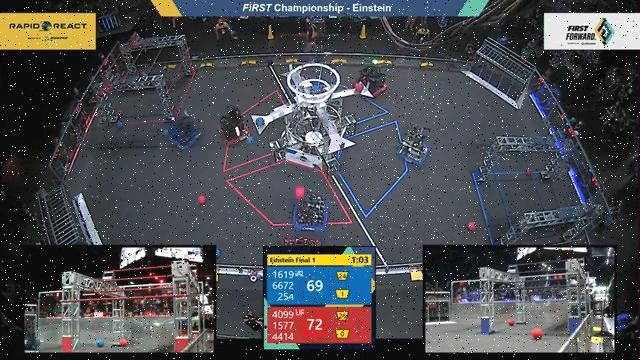Robot: (391, 121, 434, 169), (162, 107, 207, 152), (292, 187, 334, 233), (215, 106, 254, 149), (353, 58, 390, 101), (279, 232, 323, 250)
